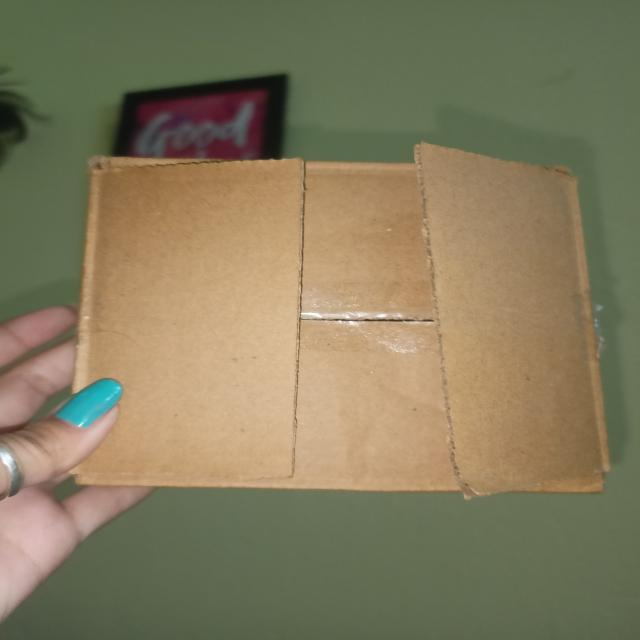cardboard_box: (39, 74, 612, 559)
